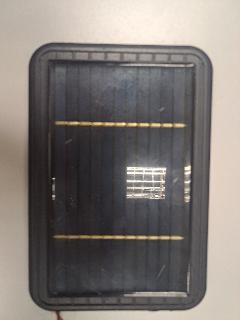crack: (155, 264, 165, 280), (65, 139, 72, 144), (159, 107, 164, 112)
solarboard: (45, 61, 194, 300)
